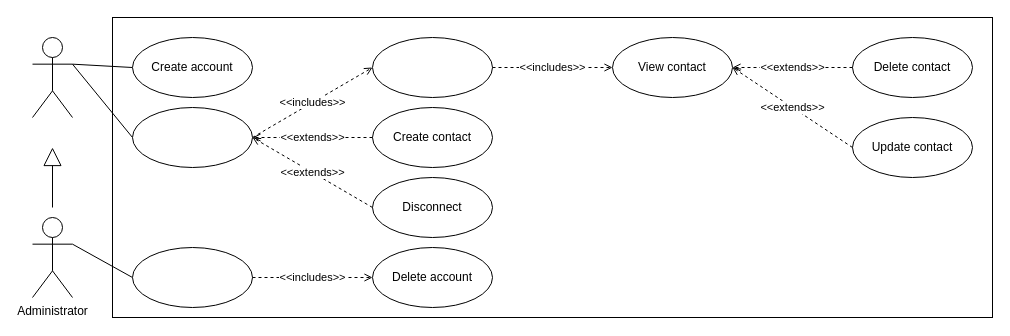
This 1010x336 diagram has some shape labels left out. Here are the shapes that lost their labels. From the top down, the centre of each, then its label:
(52,77): Client
(432,67): View contacts list
(192,137): Connect
(192,277): View accounts
